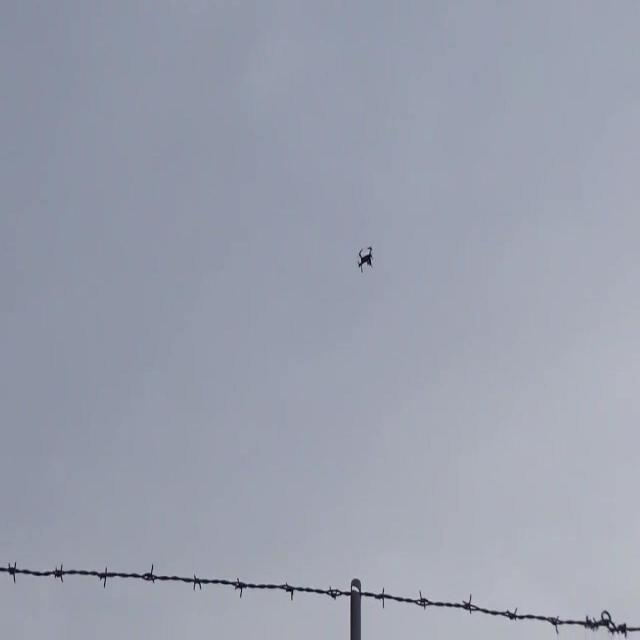UAV: (358, 245, 373, 273)
